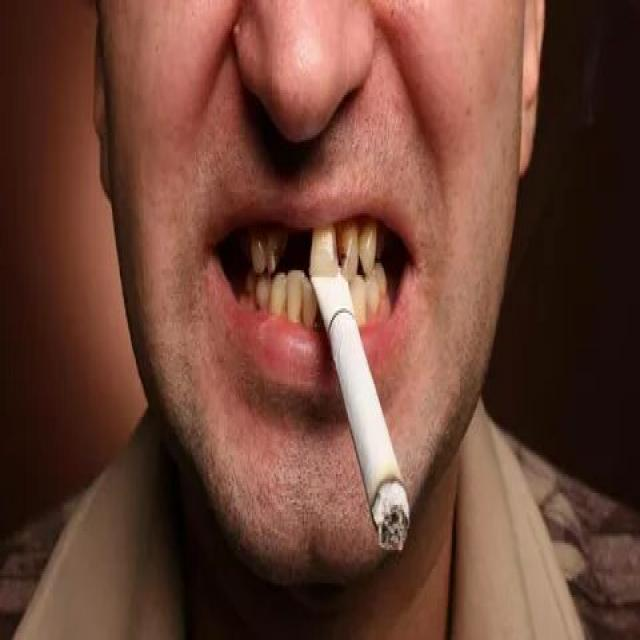smoke: (304, 261, 416, 562)
